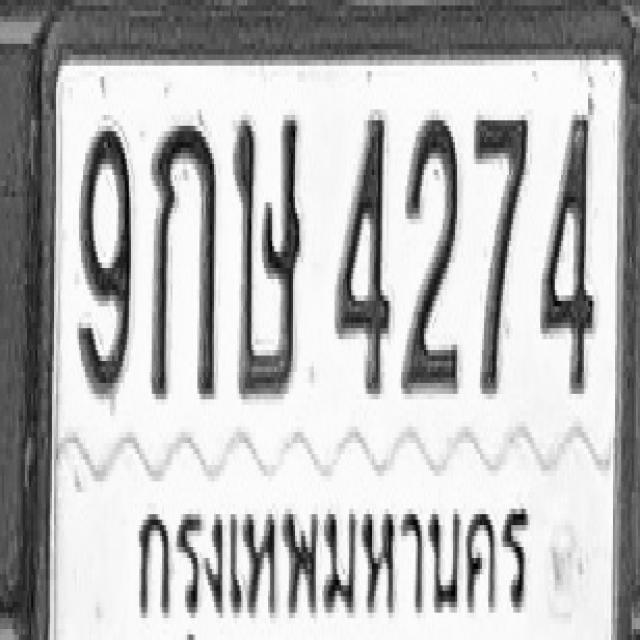10GorGai: (150, 120, 216, 400)
2: (401, 115, 459, 394)
4: (336, 112, 390, 397), (539, 109, 593, 394)
48SorRueSi: (233, 112, 301, 397)
7: (474, 115, 528, 394)
9: (79, 123, 131, 397)
Bangkok: (130, 464, 531, 640)
